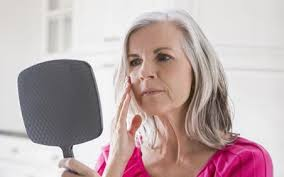white_female: (123, 33, 193, 111)
